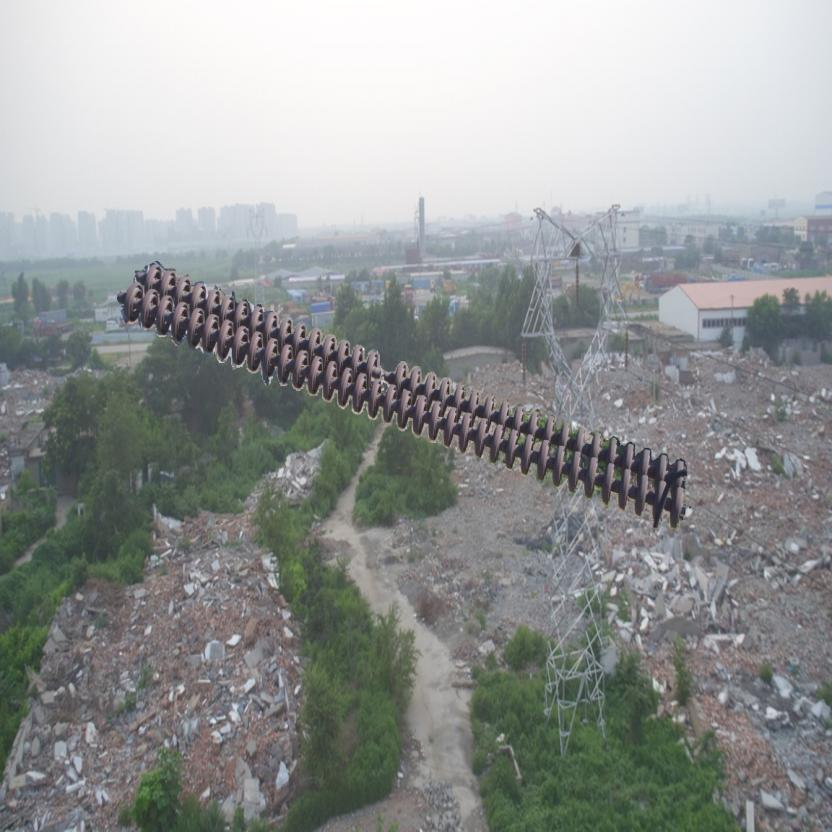defect: (360, 346, 410, 388)
